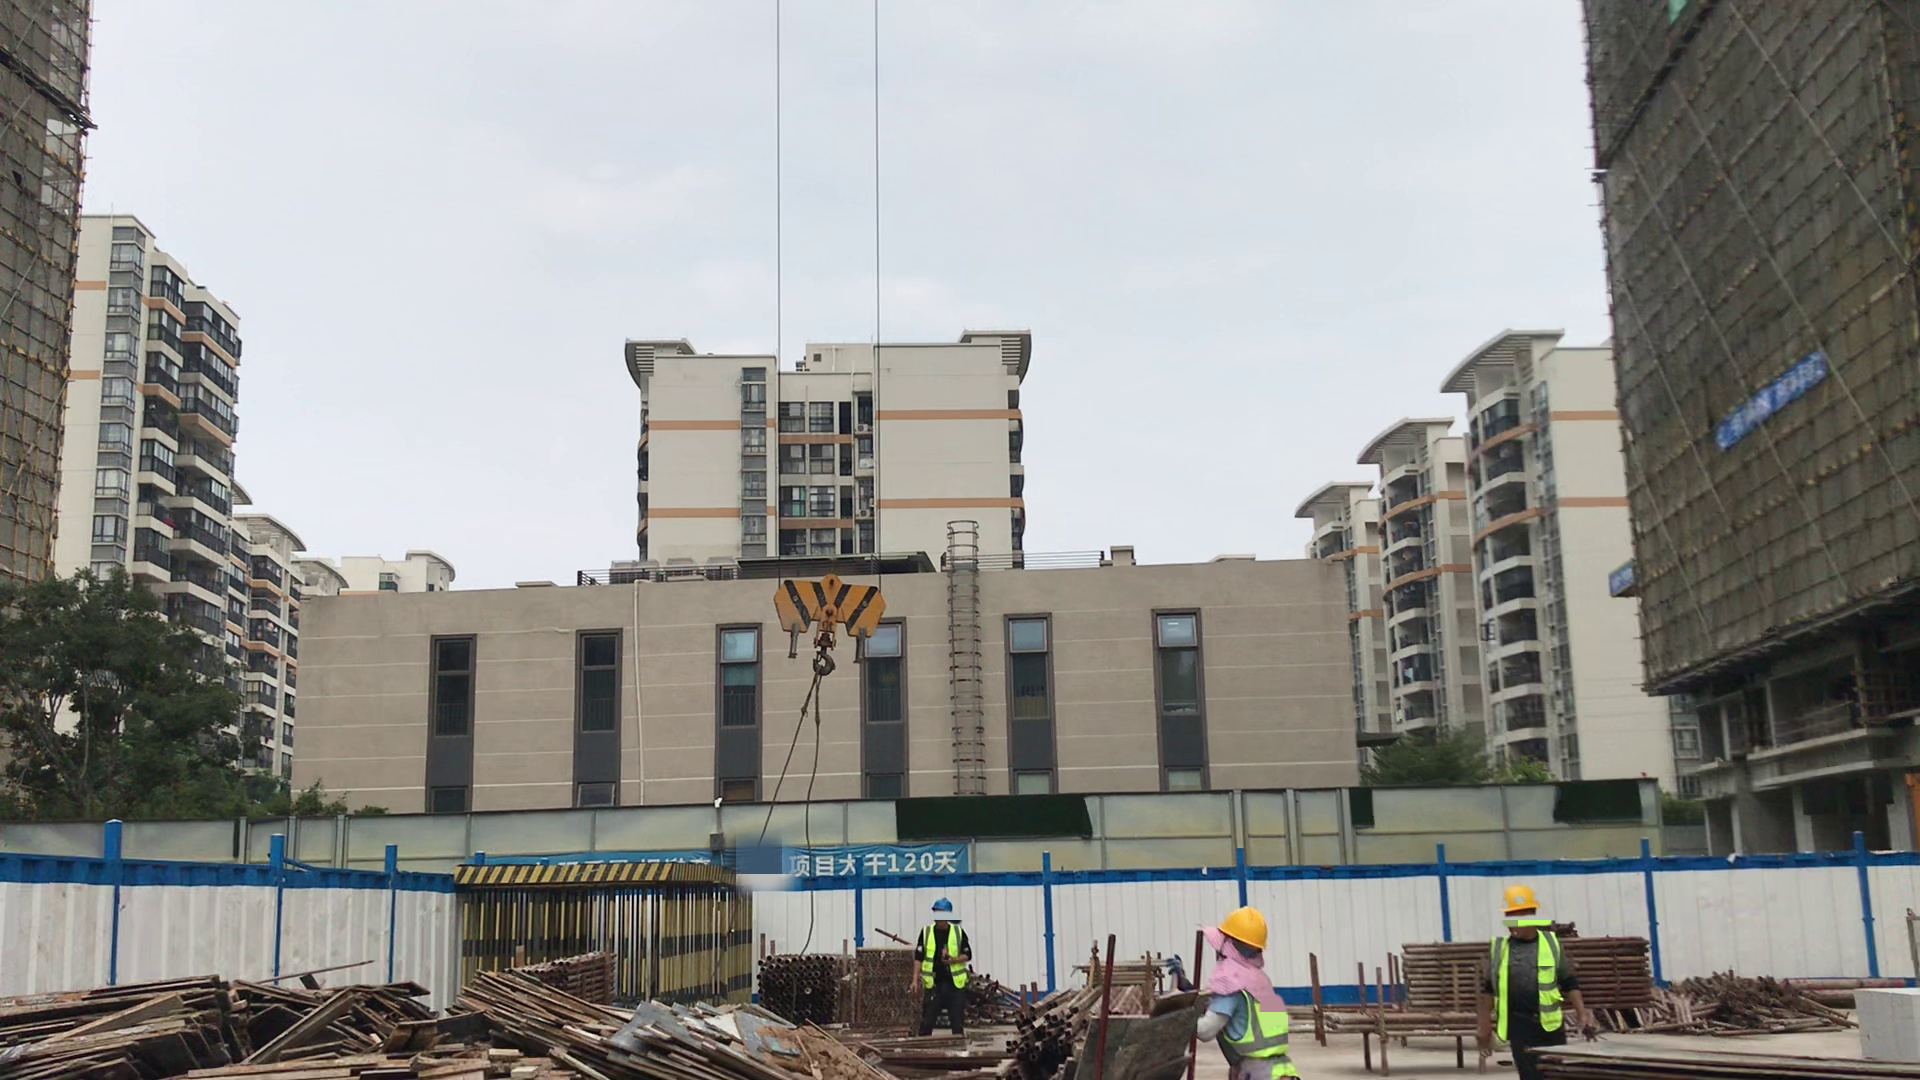brick: (1841, 970, 1920, 1071)
helmet: (1215, 899, 1275, 958), (1491, 881, 1555, 927), (928, 893, 960, 919)
hook: (772, 568, 887, 672)
person: (1192, 884, 1310, 1080), (1474, 884, 1584, 1069), (916, 894, 976, 1026)
scaffold: (1398, 942, 1649, 1010), (1003, 1000, 1143, 1078), (748, 938, 844, 1031)
slogan: (769, 833, 965, 883)
vest: (1493, 927, 1569, 1033), (1243, 973, 1296, 1050), (926, 928, 967, 976)
